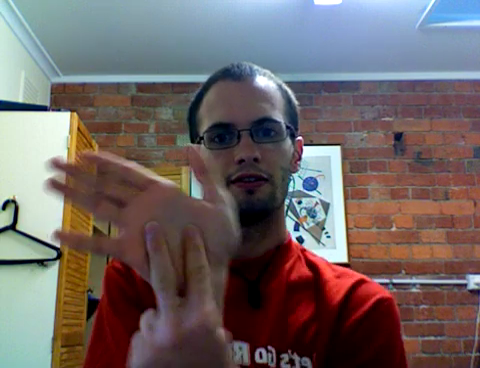V: (37, 132, 251, 368)
